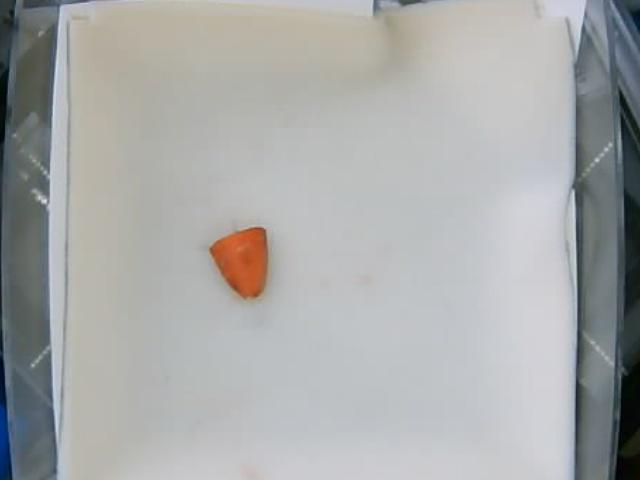Carrot: (211, 226, 269, 297)
